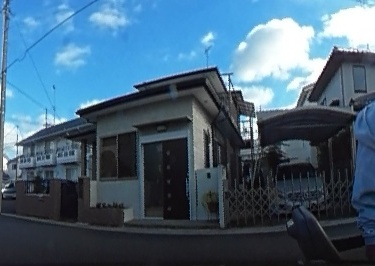person: (358, 42, 375, 266)
